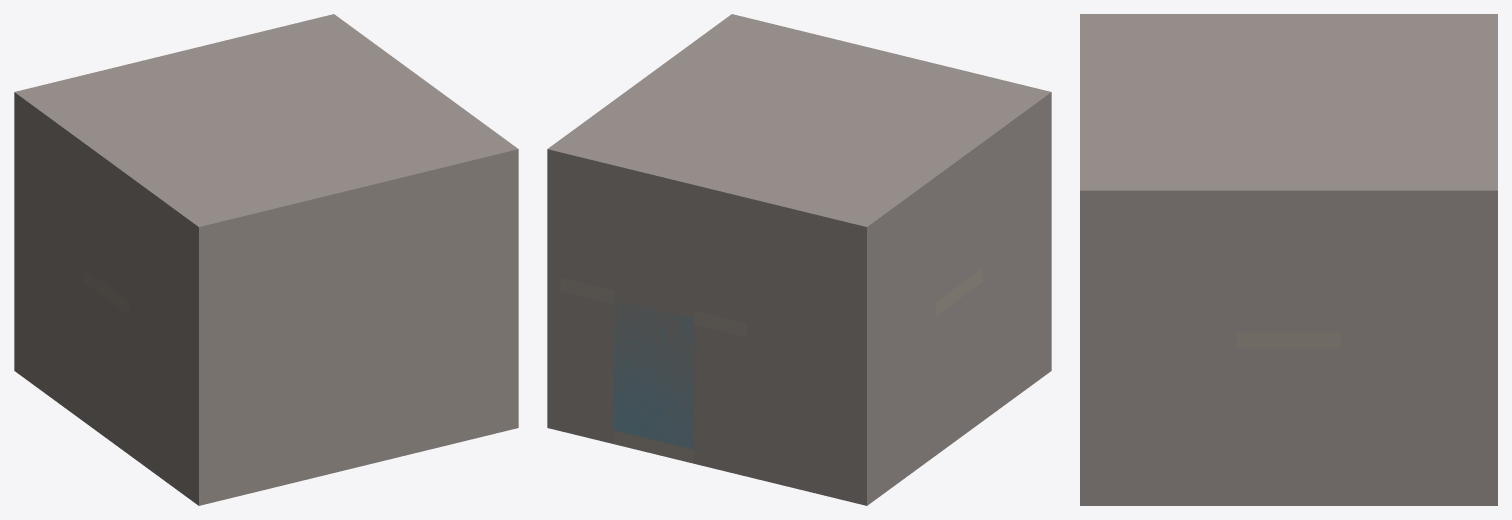
Rendered from creek-sink.glb.
The picture shows the model from 3 angles, left to right: view 1: azimuth 30°, elevation 25°; view 2: azimuth 150°, elevation 25°; view 3: azimuth 270°, elevation 25°; orthographic projection. The views are drawn at different scales.
Visible parts, largest first — view 1: rock_32, rock_8, rock_28, rock_4, rock_3, rock_24, rock_23, rock_13, rock_7, rock_6, plug_west, rock_27 (+7 smaller); view 2: rock_32, rock_1, plug_creek_north, rock_21, rock_4, water_1, rock_3, plug_creek_north.001, rock_24, rock_10, rock_9, rock_23 (+10 smaller); view 3: rock_32, rock_2, rock_5, rock_22, rock_25, rock_14, plug_east, rock_31, cave-floor_10.
Boxes of the visible parts, x1,y1,x2,y2 form: rock_32: (14, 14, 518, 240); rock_8: (239, 284, 478, 495); rock_28: (239, 173, 478, 342); rock_4: (129, 302, 212, 505); rock_3: (22, 223, 83, 421); rock_24: (129, 191, 212, 352); rock_23: (22, 112, 83, 267); rock_13: (83, 282, 129, 454); rock_7: (478, 278, 505, 437); rock_6: (212, 343, 238, 502); plug_west: (83, 185, 129, 301); rock_27: (478, 166, 505, 284); rock_32: (547, 14, 1051, 240); rock_1: (747, 323, 874, 505); plug_creek_north: (560, 180, 746, 323); rock_21: (747, 212, 874, 352); rock_4: (982, 218, 1051, 421); water_1: (614, 301, 693, 449); rock_3: (874, 302, 936, 499); plug_creek_north.001: (614, 291, 693, 448); rock_24: (982, 106, 1051, 267); rock_10: (560, 292, 613, 443); rock_9: (694, 324, 746, 476); rock_23: (874, 191, 936, 346); rock_32: (1080, 14, 1497, 206); rock_2: (1341, 332, 1497, 505); rock_5: (1080, 332, 1236, 505); rock_22: (1341, 206, 1497, 332); rock_25: (1080, 206, 1236, 332); rock_14: (1236, 348, 1341, 505); plug_east: (1236, 238, 1341, 332); rock_31: (1236, 206, 1341, 237); cave-floor_10: (1236, 332, 1341, 348).
Bounding box in the file's own units: 12 × 10 × 12.
